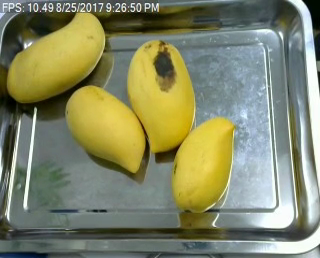Mango: (7, 9, 106, 104), (127, 39, 195, 154), (63, 85, 147, 171), (172, 115, 235, 214)
